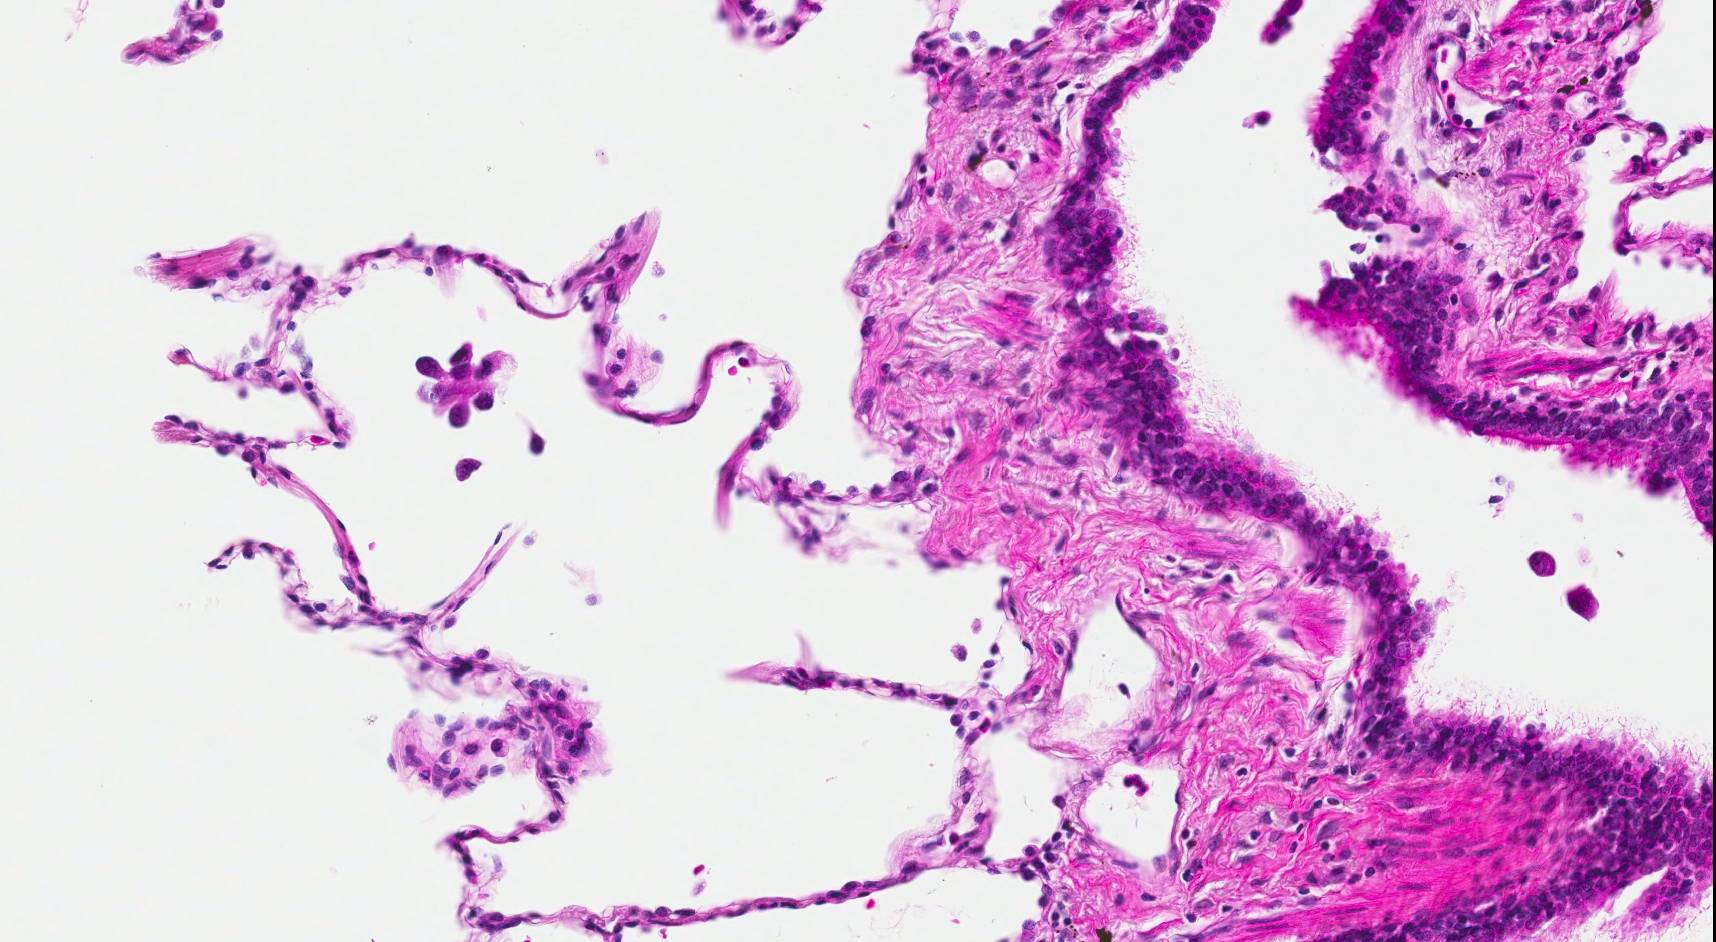stas: (410, 337, 519, 431)
